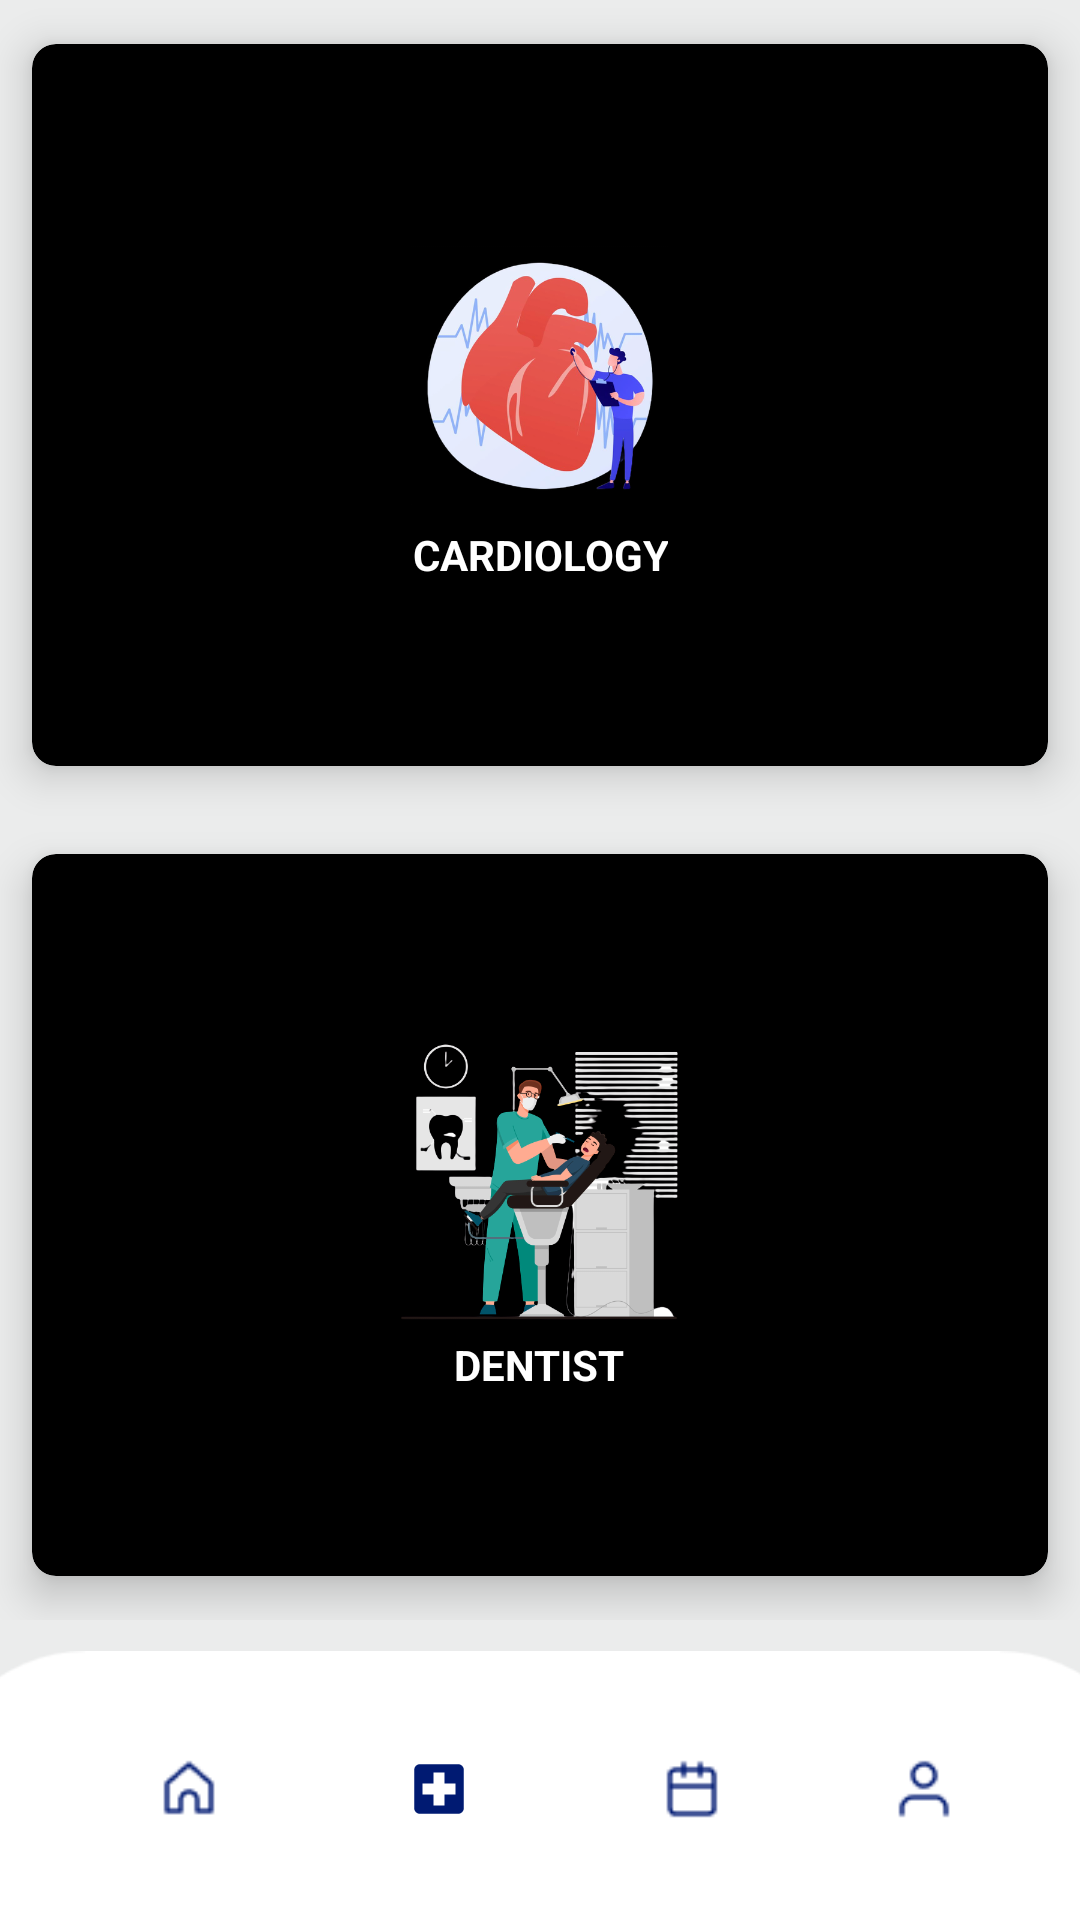

Icons on this 1080 × 1920 Android screen, each with its box as Rect(x1, y1, x2, y2):
calendar: Rect(666, 1761, 718, 1818)
home: Rect(163, 1761, 215, 1815)
local hospital: Rect(414, 1764, 464, 1814)
user: Rect(898, 1760, 950, 1817)
